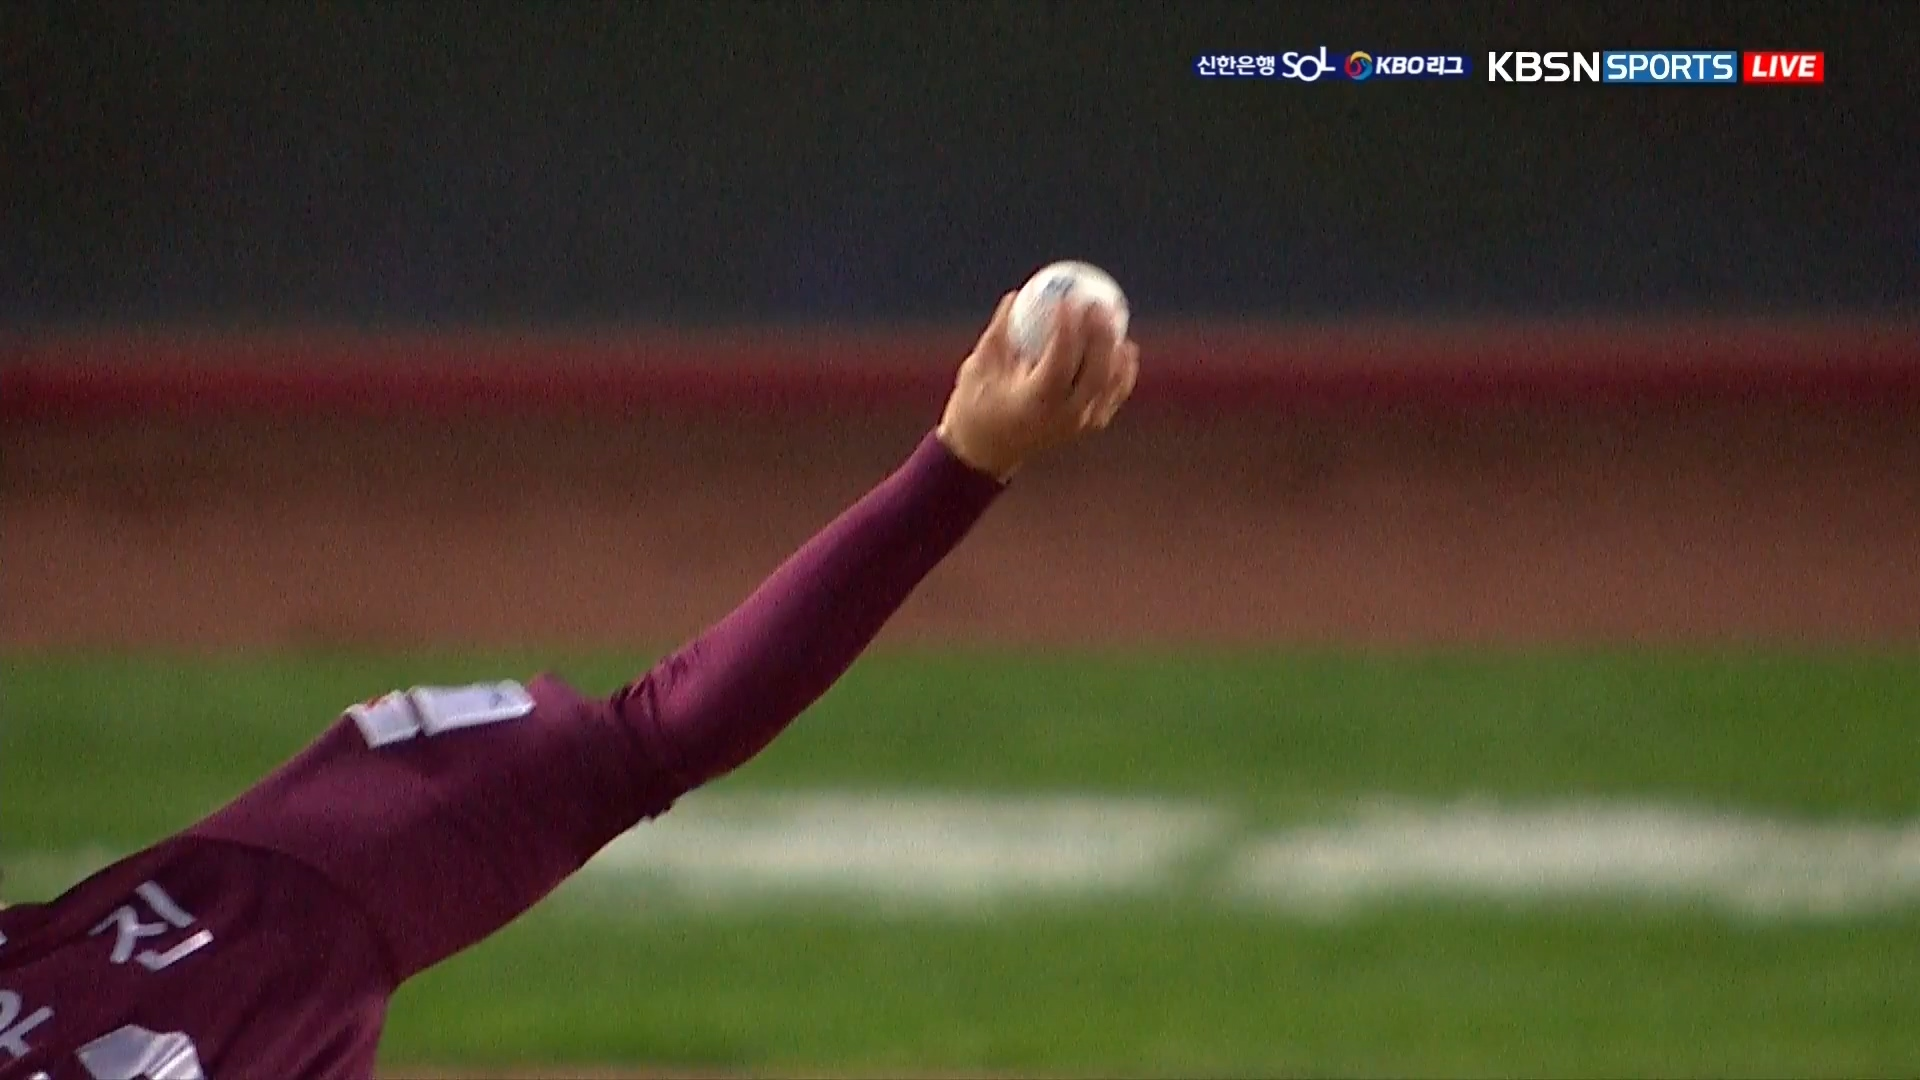zoomin_hand: (615, 236, 1170, 806)
